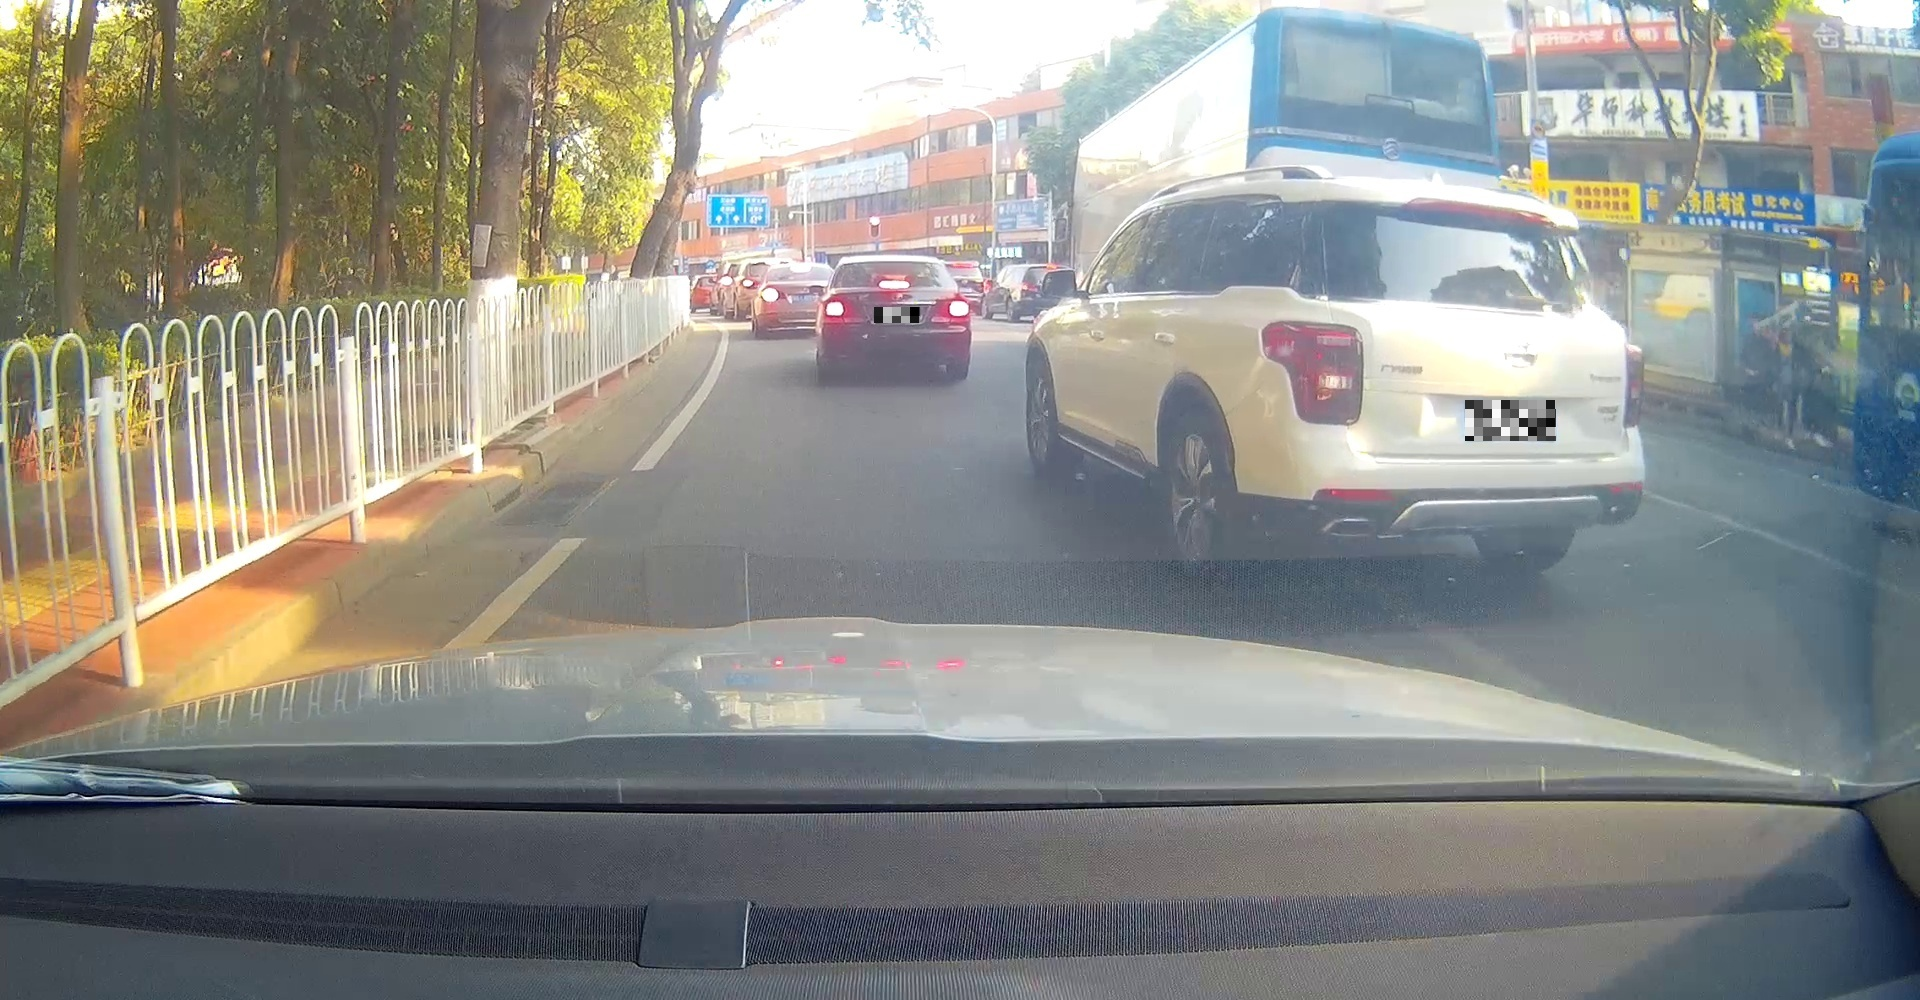L_light: (1258, 320, 1365, 426), (819, 298, 863, 324)
R_light: (1622, 340, 1644, 429), (931, 298, 970, 322)
T_light: (1402, 197, 1556, 232), (877, 280, 910, 289)
day-brake: (815, 254, 971, 377)
day-no: (1251, 174, 1646, 572)
plate_1: (874, 307, 919, 324)
plate_2: (1465, 400, 1556, 442)
